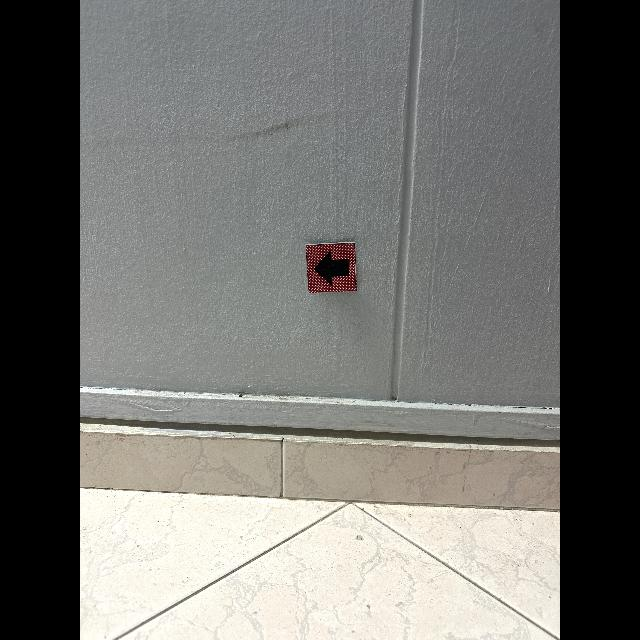LEFT: (313, 250, 349, 286)
